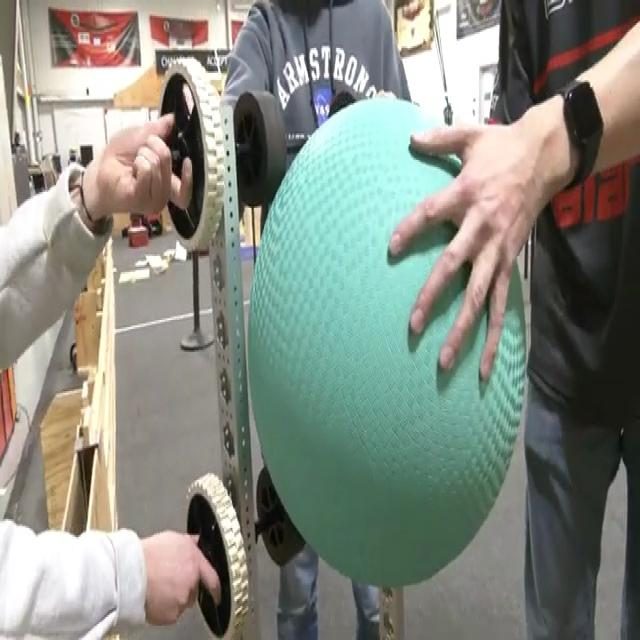Algae: (246, 92, 528, 588)
